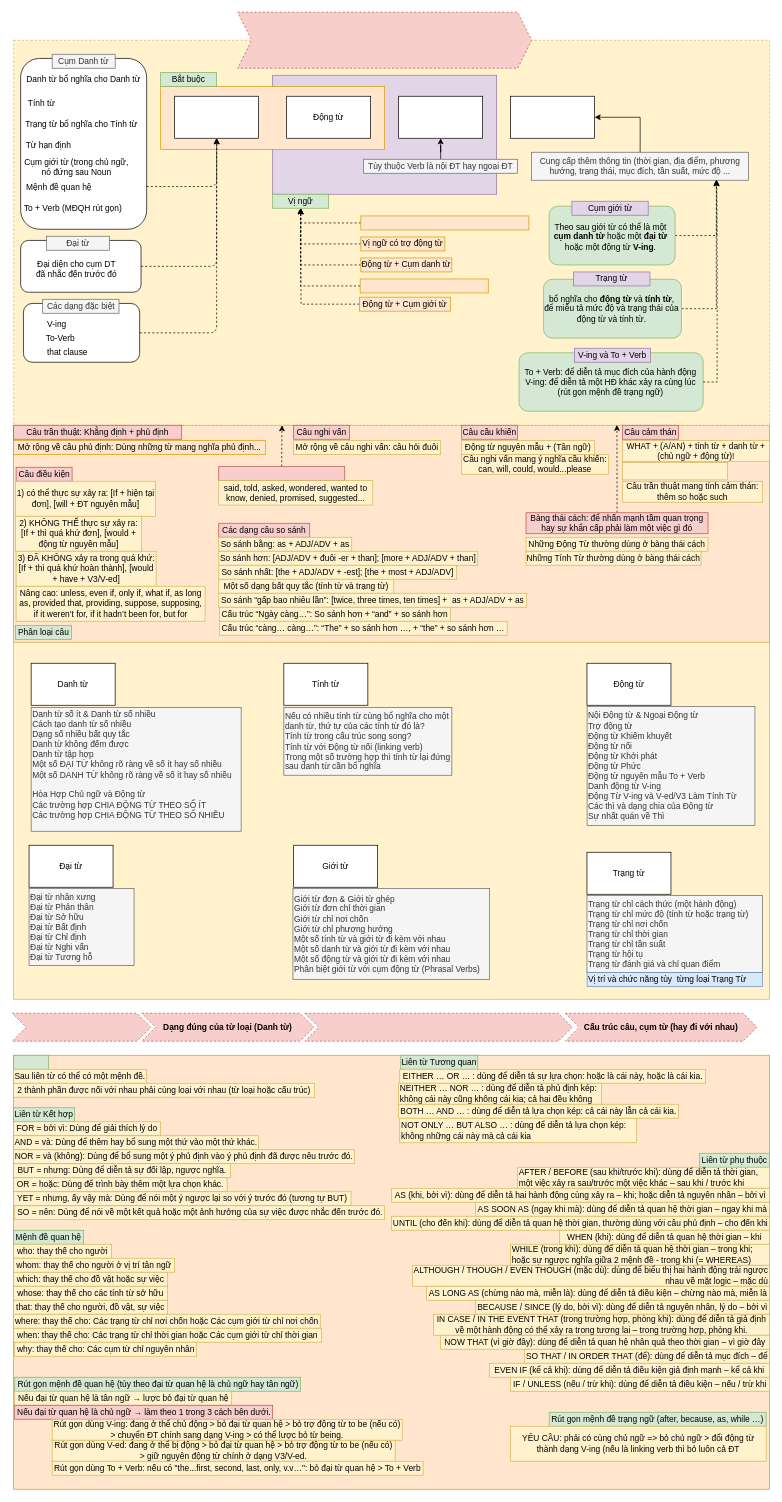
The diagram is 782 pixels wide and 1502 high, and some of its shapes have lost their labels. The centre of each missing label's shape, as x and y in pixels:
"Chủ ngữ" belongs at (x=216, y=117).
"Các thành phần & vị trí" belongs at (x=81, y=1027).
"Các thông tin nền" belongs at (x=552, y=117).
"Câu gián tiếp (Câu Tường Thuật)" belongs at (x=281, y=473).
"Cụm động từ = Động từ + Tân ngữ (nếu có)" belongs at (x=444, y=222).
"Dạng đúng của Động từ (chia thì / phù hợp với chủ ngữ)" belongs at (x=438, y=1027).
"HOW + tính từ / trạng từ + chủ ngữ + động từ!" belongs at (x=675, y=471).
"Liên Từ" belongs at (x=31, y=1062).
"Tân ngữ" belongs at (x=440, y=117).
"TÓM TẮT CẤU TRÚC CÂU" belongs at (x=384, y=40).
"Động từ + Tính từ (Linking Verbs)" belongs at (x=423, y=285).
